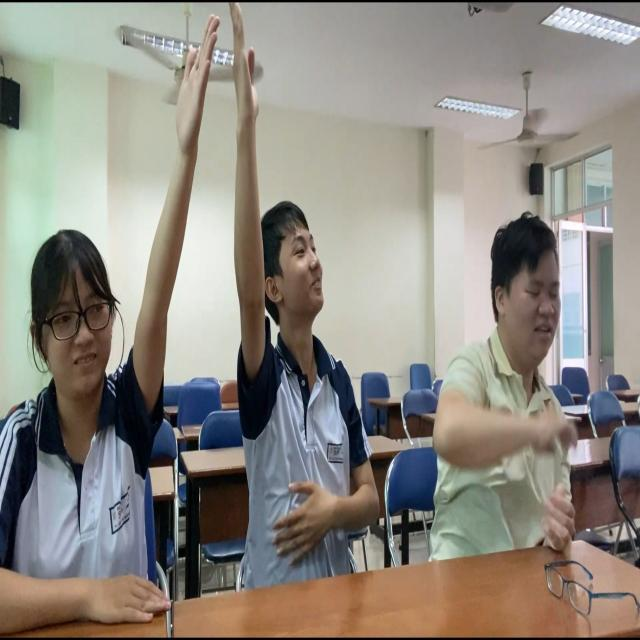raise_hand: (1, 13, 218, 640), (226, 1, 380, 590)
